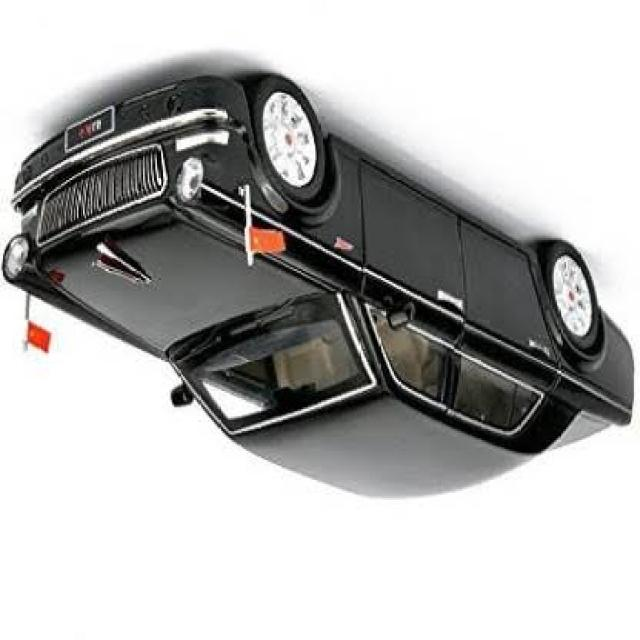Car: (0, 73, 634, 502)
